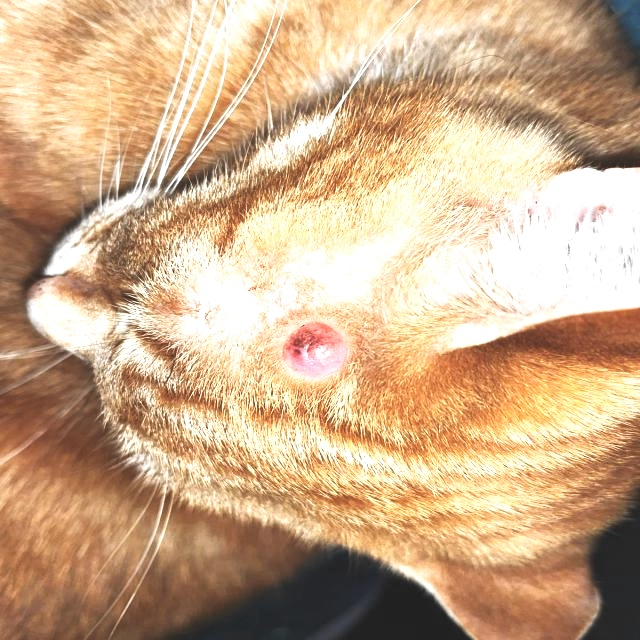lump_and_bump: (281, 321, 354, 380)
